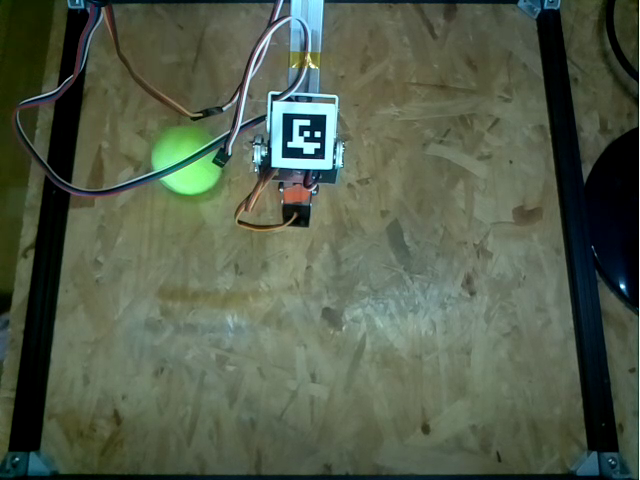tennis_ball: (150, 125, 223, 195)
